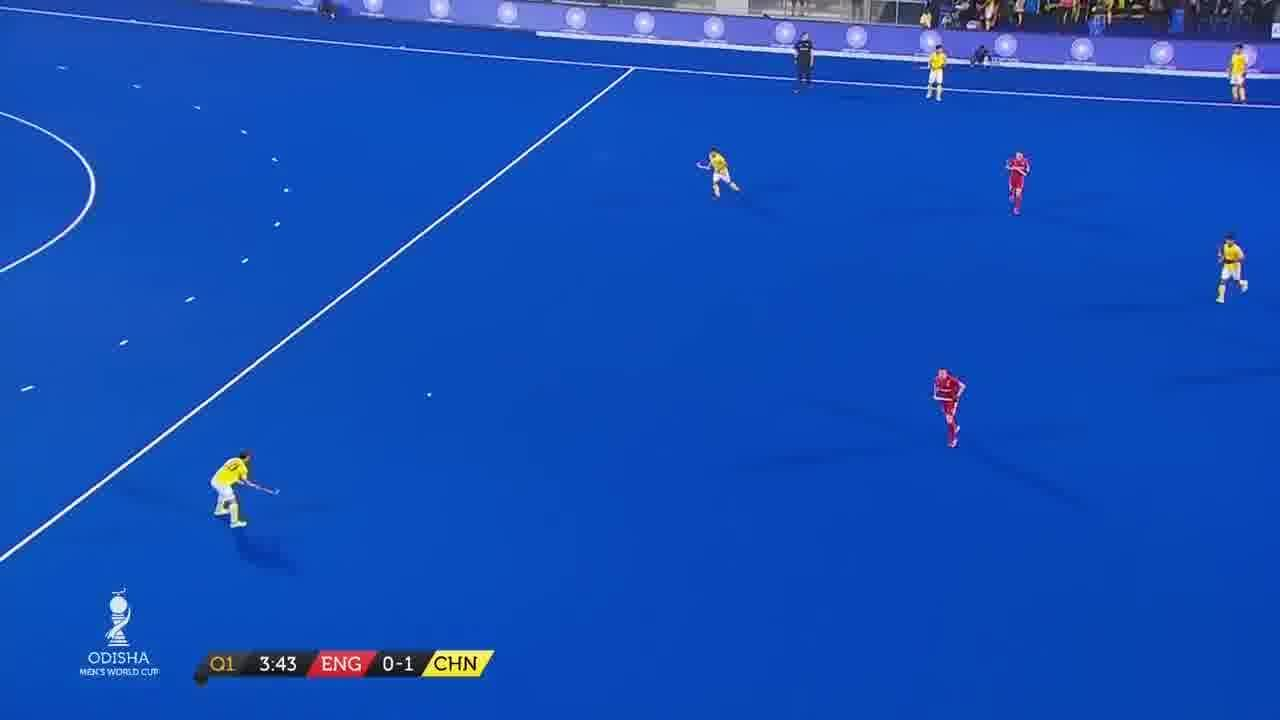ball: (428, 392, 436, 398)
